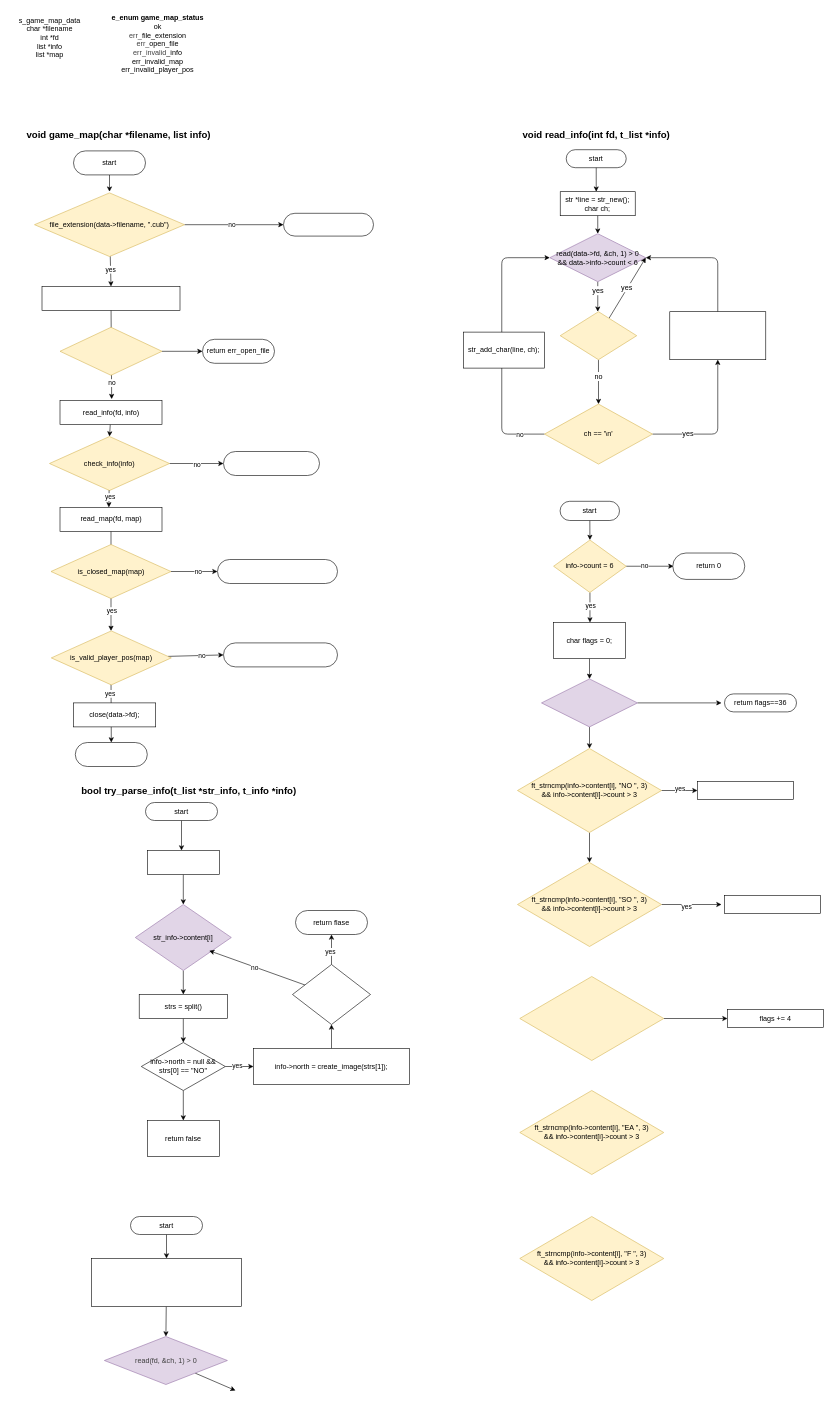
This 834x1406 diagram has some shape labels left out. The shapes that lost their labels are listed below. From the top down, each one's centre as x and y in pixels, then its label:
point 328,224: return err_file_extension
point 110,298: data->fd = ft_open(data->file_name, O_RONLY, 0666)
point 110,351: data->fd == -1
point 598,335: str->count == 0 && ch == '\n'
point 717,335: list_add(data->info, line); line = str_new();
point 271,463: return err_invalid_info
point 277,571: return err_invalid_map
point 280,654: return err_invalid_player_pos
point 589,702: info->content[i]
point 111,754: return ok
point 745,790: flags += 1
point 183,862: int i = 0; char **strs;
point 772,904: flags += 2
point 331,994: info->north == null
point 591,1018: ft_strncmp( info->content[i], "WE ", 3 ) && info->content[i]->count > 3
point 166,1282: t_str line; char ch; int first_time; first_time = 0;
